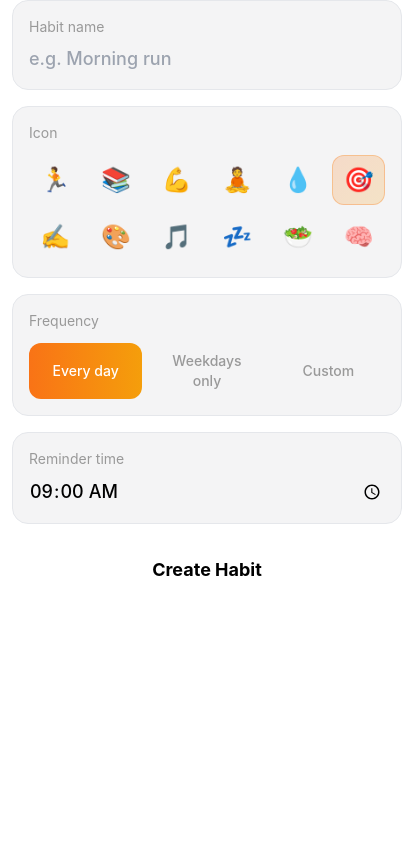
Test case: HabitBuilder › submit button is enabled when habit name is entered
The image size is (414, 844).
In the field with placeholder "e.g. Morning run": (207, 59) left=29, top=45, right=385, bottom=73, type "Meditate"
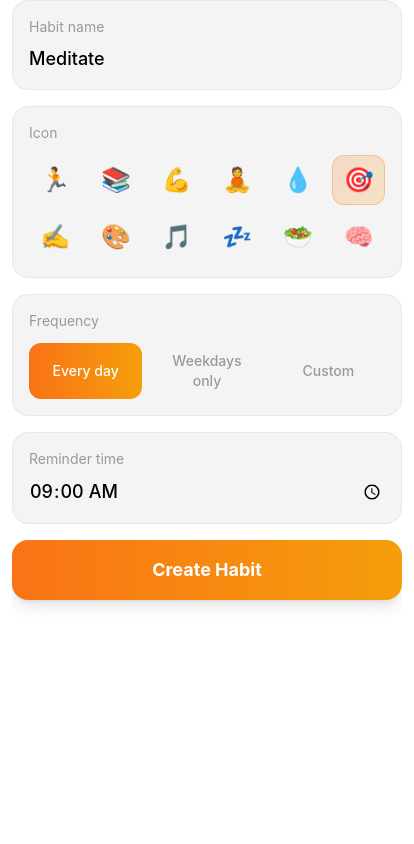
Now the button "Create Habit" is enabled, box left=12, top=540, right=402, bottom=600
